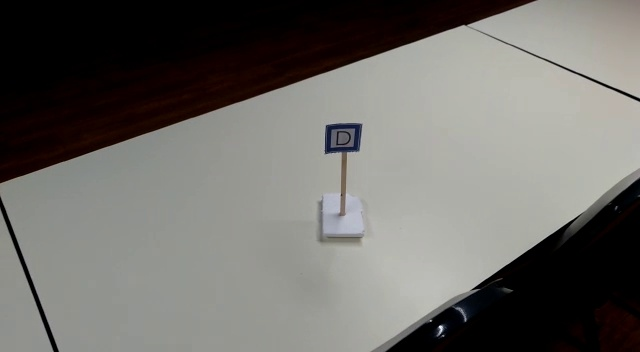durak: (324, 122, 363, 154)
